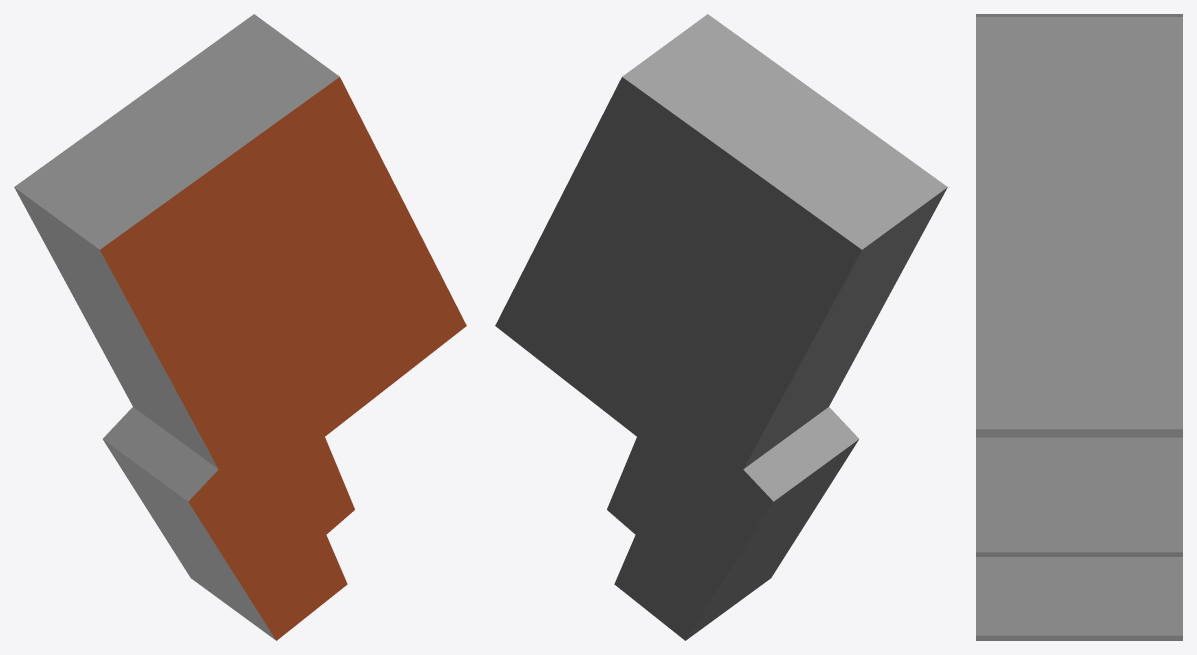
Rendered from construction_5344_assumed_A_Casa_h6m.obj.
3 views of the same model, side by side, from view 1: azimuth 30°, elevation 25°; view 2: azimuth 150°, elevation 25°; view 3: azimuth 270°, elevation 25° (orthographic). The views are drawn at different scales.
Visible parts, largest first — view 1: construction_5344_assumed_A_Casa; view 2: construction_5344_assumed_A_Casa; view 3: construction_5344_assumed_A_Casa.
Part boxes in pixels (x1=…): construction_5344_assumed_A_Casa: x1=14, y1=14, x2=466, y2=640; construction_5344_assumed_A_Casa: x1=495, y1=14, x2=947, y2=640; construction_5344_assumed_A_Casa: x1=976, y1=14, x2=1182, y2=640.
Bounding box in the file's own units: 14.82 × 21.17 × 6.
